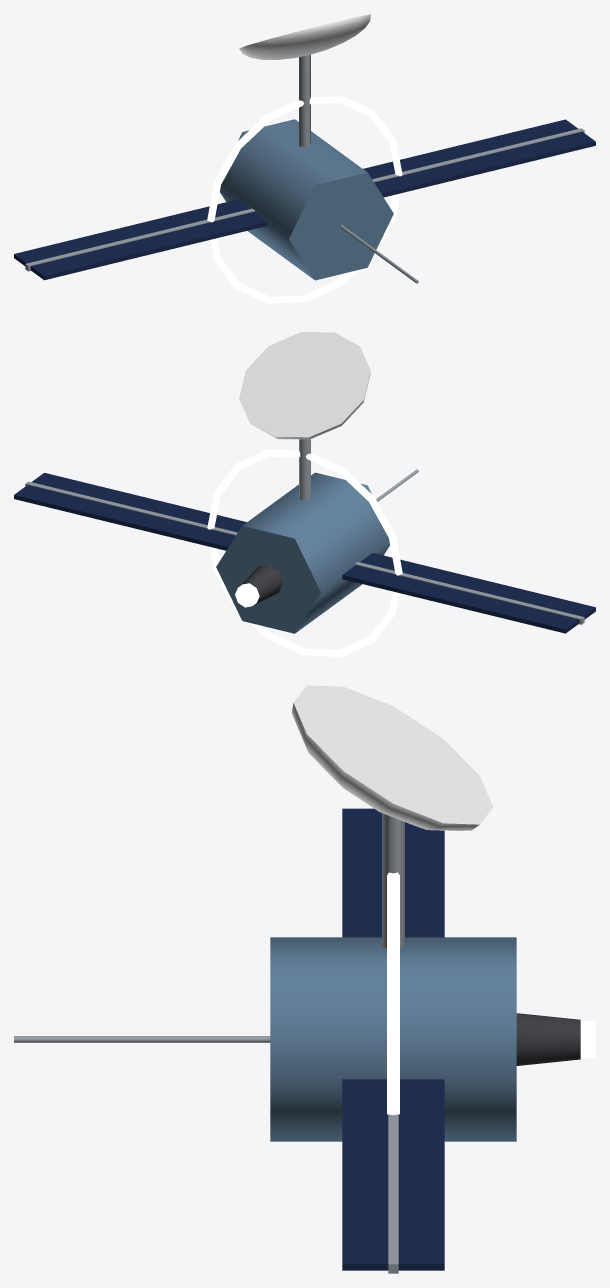
File: space_ship_probe_mk6.glb
3 renders of one model, top to bottom at view 1: azimuth 30°, elevation 25°; view 2: azimuth 150°, elevation 25°; view 3: azimuth 270°, elevation 25°, orthographic. The views are drawn at different scales.
Parts seen in each view (by area): view 1: body, solar_0, solar_1, antenna_0; view 2: body, antenna_0, solar_0, solar_1, engine_0; view 3: body, solar_1, antenna_0, solar_0, engine_0.
Part boxes in pixels (bbox=[...]): body: bbox=[207, 96, 418, 303]; solar_0: bbox=[14, 199, 267, 280]; solar_1: bbox=[363, 119, 595, 197]; antenna_0: bbox=[239, 14, 370, 147]; body: bbox=[207, 449, 418, 656]; antenna_0: bbox=[239, 332, 370, 500]; solar_0: bbox=[342, 553, 595, 633]; solar_1: bbox=[14, 473, 246, 550]; engine_0: bbox=[235, 564, 282, 607]; body: bbox=[14, 872, 516, 1141]; solar_1: bbox=[342, 1079, 444, 1273]; antenna_0: bbox=[291, 685, 493, 948]; solar_0: bbox=[342, 808, 444, 937]; engine_0: bbox=[516, 1013, 595, 1065].
Size of what is drawn, in the model's own units: 8.47 by 4.39 by 4.54.
